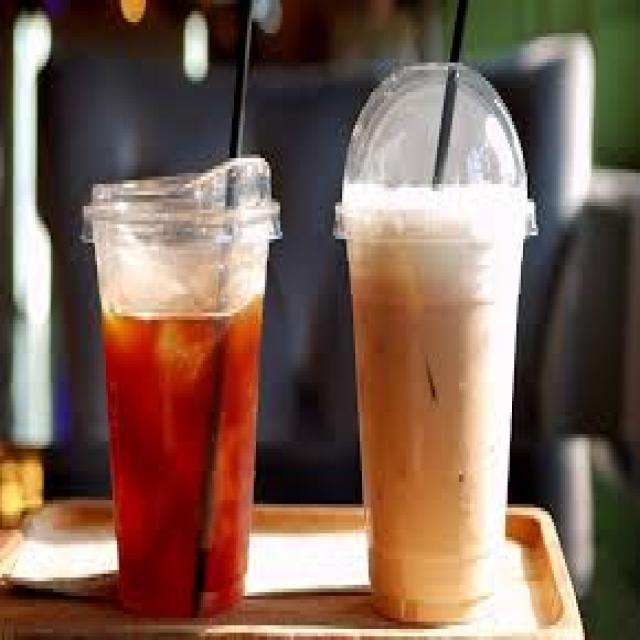bottle: (341, 185, 529, 622), (93, 229, 268, 617)
